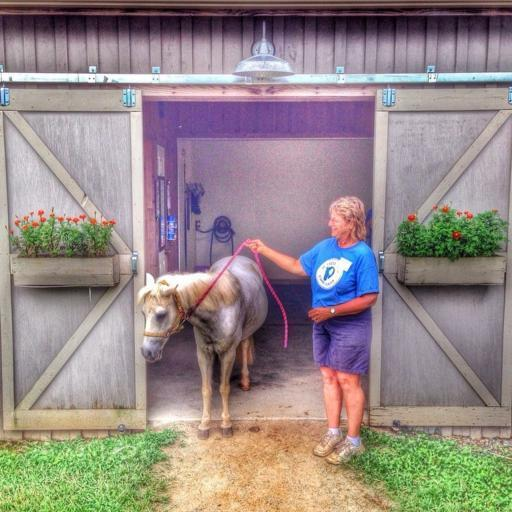horse: (136, 255, 271, 441)
